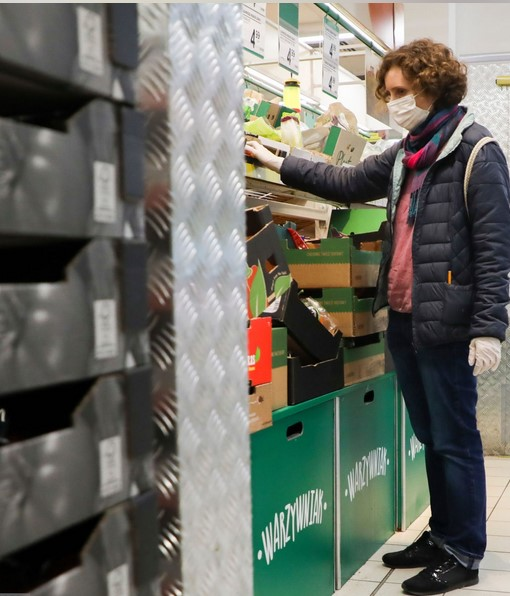face_with_mask: (373, 38, 461, 137)
